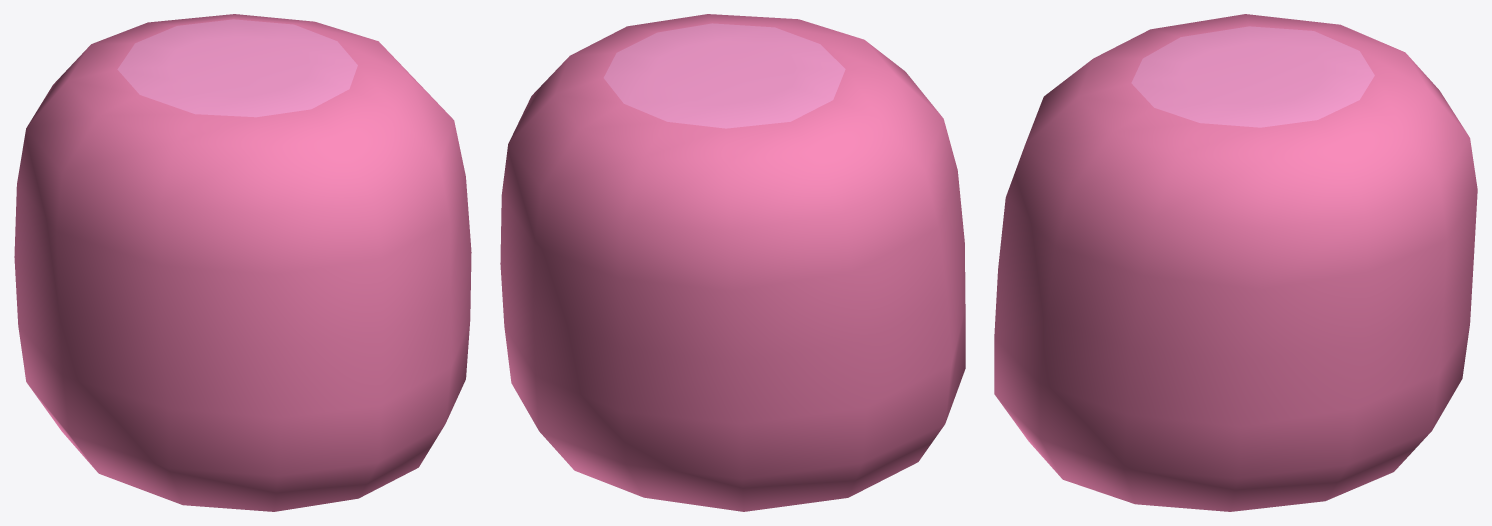
The model's file is candy_assets31.fbx.
3 views of the same model, side by side, from view 1: azimuth 30°, elevation 25°; view 2: azimuth 150°, elevation 25°; view 3: azimuth 270°, elevation 25° (orthographic). The views are drawn at different scales.
Parts seen in each view (by area): view 1: candy_assets31; view 2: candy_assets31; view 3: candy_assets31.
Part boxes in pixels (x1,y1,x2,y2): candy_assets31: (14, 14, 471, 511); candy_assets31: (500, 14, 965, 511); candy_assets31: (994, 14, 1477, 511).
Size of the model in its own units: 409 by 379 by 429.
1 material, 1 textured.
